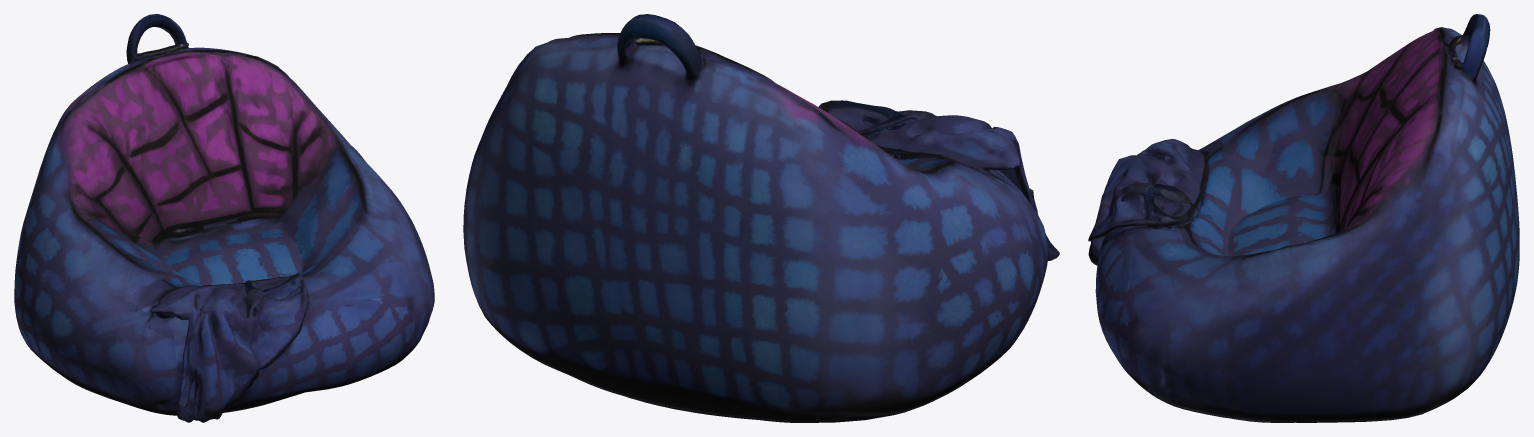
Rendered from sofa.glb.
The picture shows the model from 3 angles, left to right: view 1: azimuth 30°, elevation 25°; view 2: azimuth 150°, elevation 25°; view 3: azimuth 270°, elevation 25°; orthographic projection. The views are drawn at different scales.
Bounding box in the file's own units: 2.01 × 1.44 × 1.74.
1 material, 1 textured.
